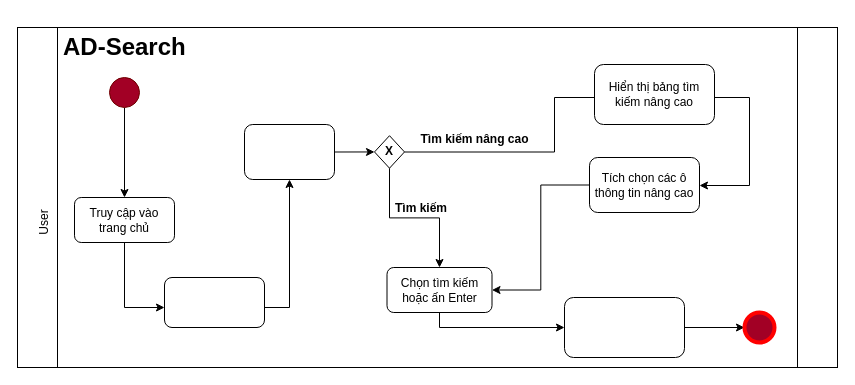
Some shapes in this 855 by 385 pixel diagram are drawn without their labels. Here are the shapes that lost their labels. From the top down, the centre of each, then its label:
At (x=289, y=152): "Nhập từ khóa tìm kiếm".
At (x=214, y=302): "Chọn biểu tượng tìm kiếm".
At (x=624, y=327): "Hệ thống hiển thị danh sách tìm kiếm".
